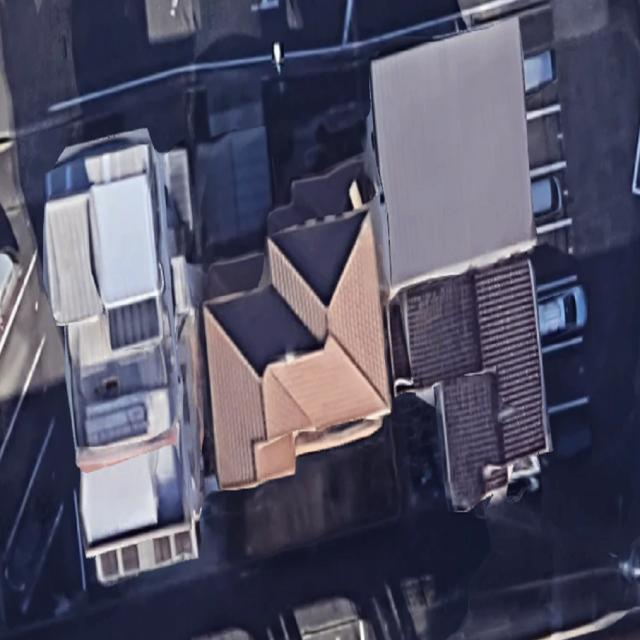Batiment: (44, 129, 202, 583), (204, 205, 391, 489), (371, 17, 536, 296), (389, 257, 549, 510), (195, 126, 271, 254)
